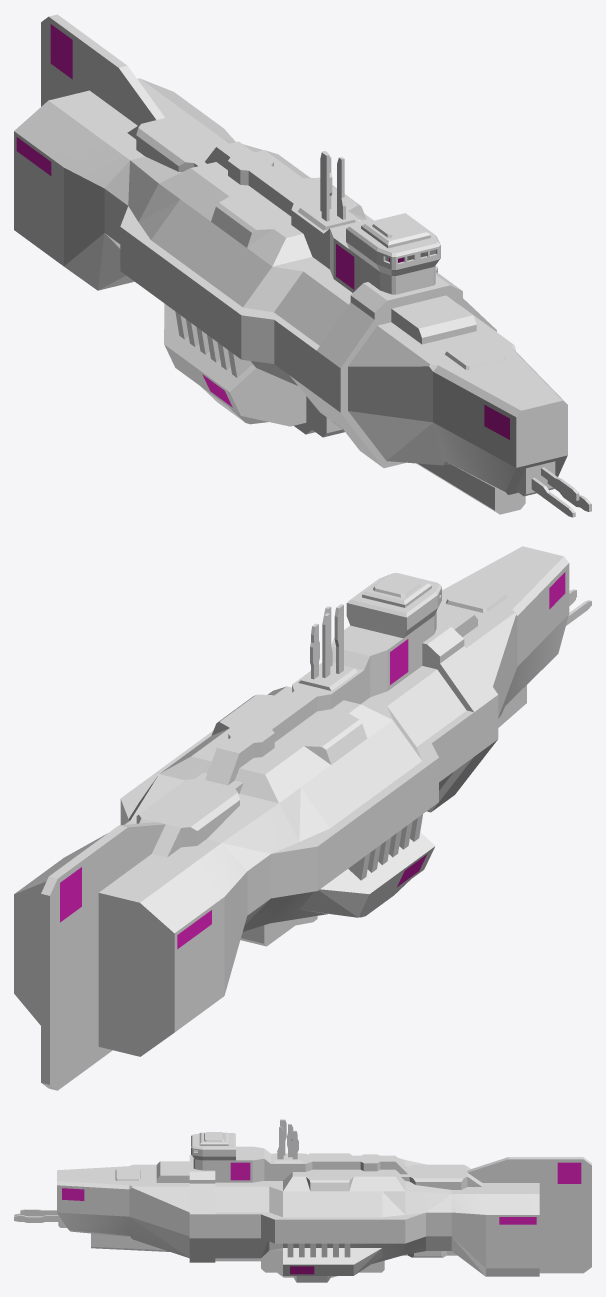
File: HU Nameplate CL.fbx
The picture shows the model from 3 angles, top to bottom: view 1: azimuth 30°, elevation 25°; view 2: azimuth 150°, elevation 25°; view 3: azimuth 270°, elevation 25°; orthographic projection. The views are drawn at different scales.
Parts seen in each view (by area): view 1: HU CL Hull Bow, HU CL Hull Stern; view 2: HU CL Hull Bow, HU CL Hull Stern; view 3: HU CL Hull Bow, HU CL Hull Stern.
Part boxes in pixels (x1=…): HU CL Hull Bow: x1=127, y1=114, x2=591, y2=517; HU CL Hull Stern: x1=14, y1=14, x2=437, y2=437; HU CL Hull Bow: x1=129, y1=546, x2=591, y2=857; HU CL Hull Stern: x1=14, y1=730, x2=438, y2=1090; HU CL Hull Bow: x1=14, y1=1119, x2=482, y2=1262; HU CL Hull Stern: x1=261, y1=1157, x2=591, y2=1282.
Size of the model in its own units: 459 by 2082 by 598.
